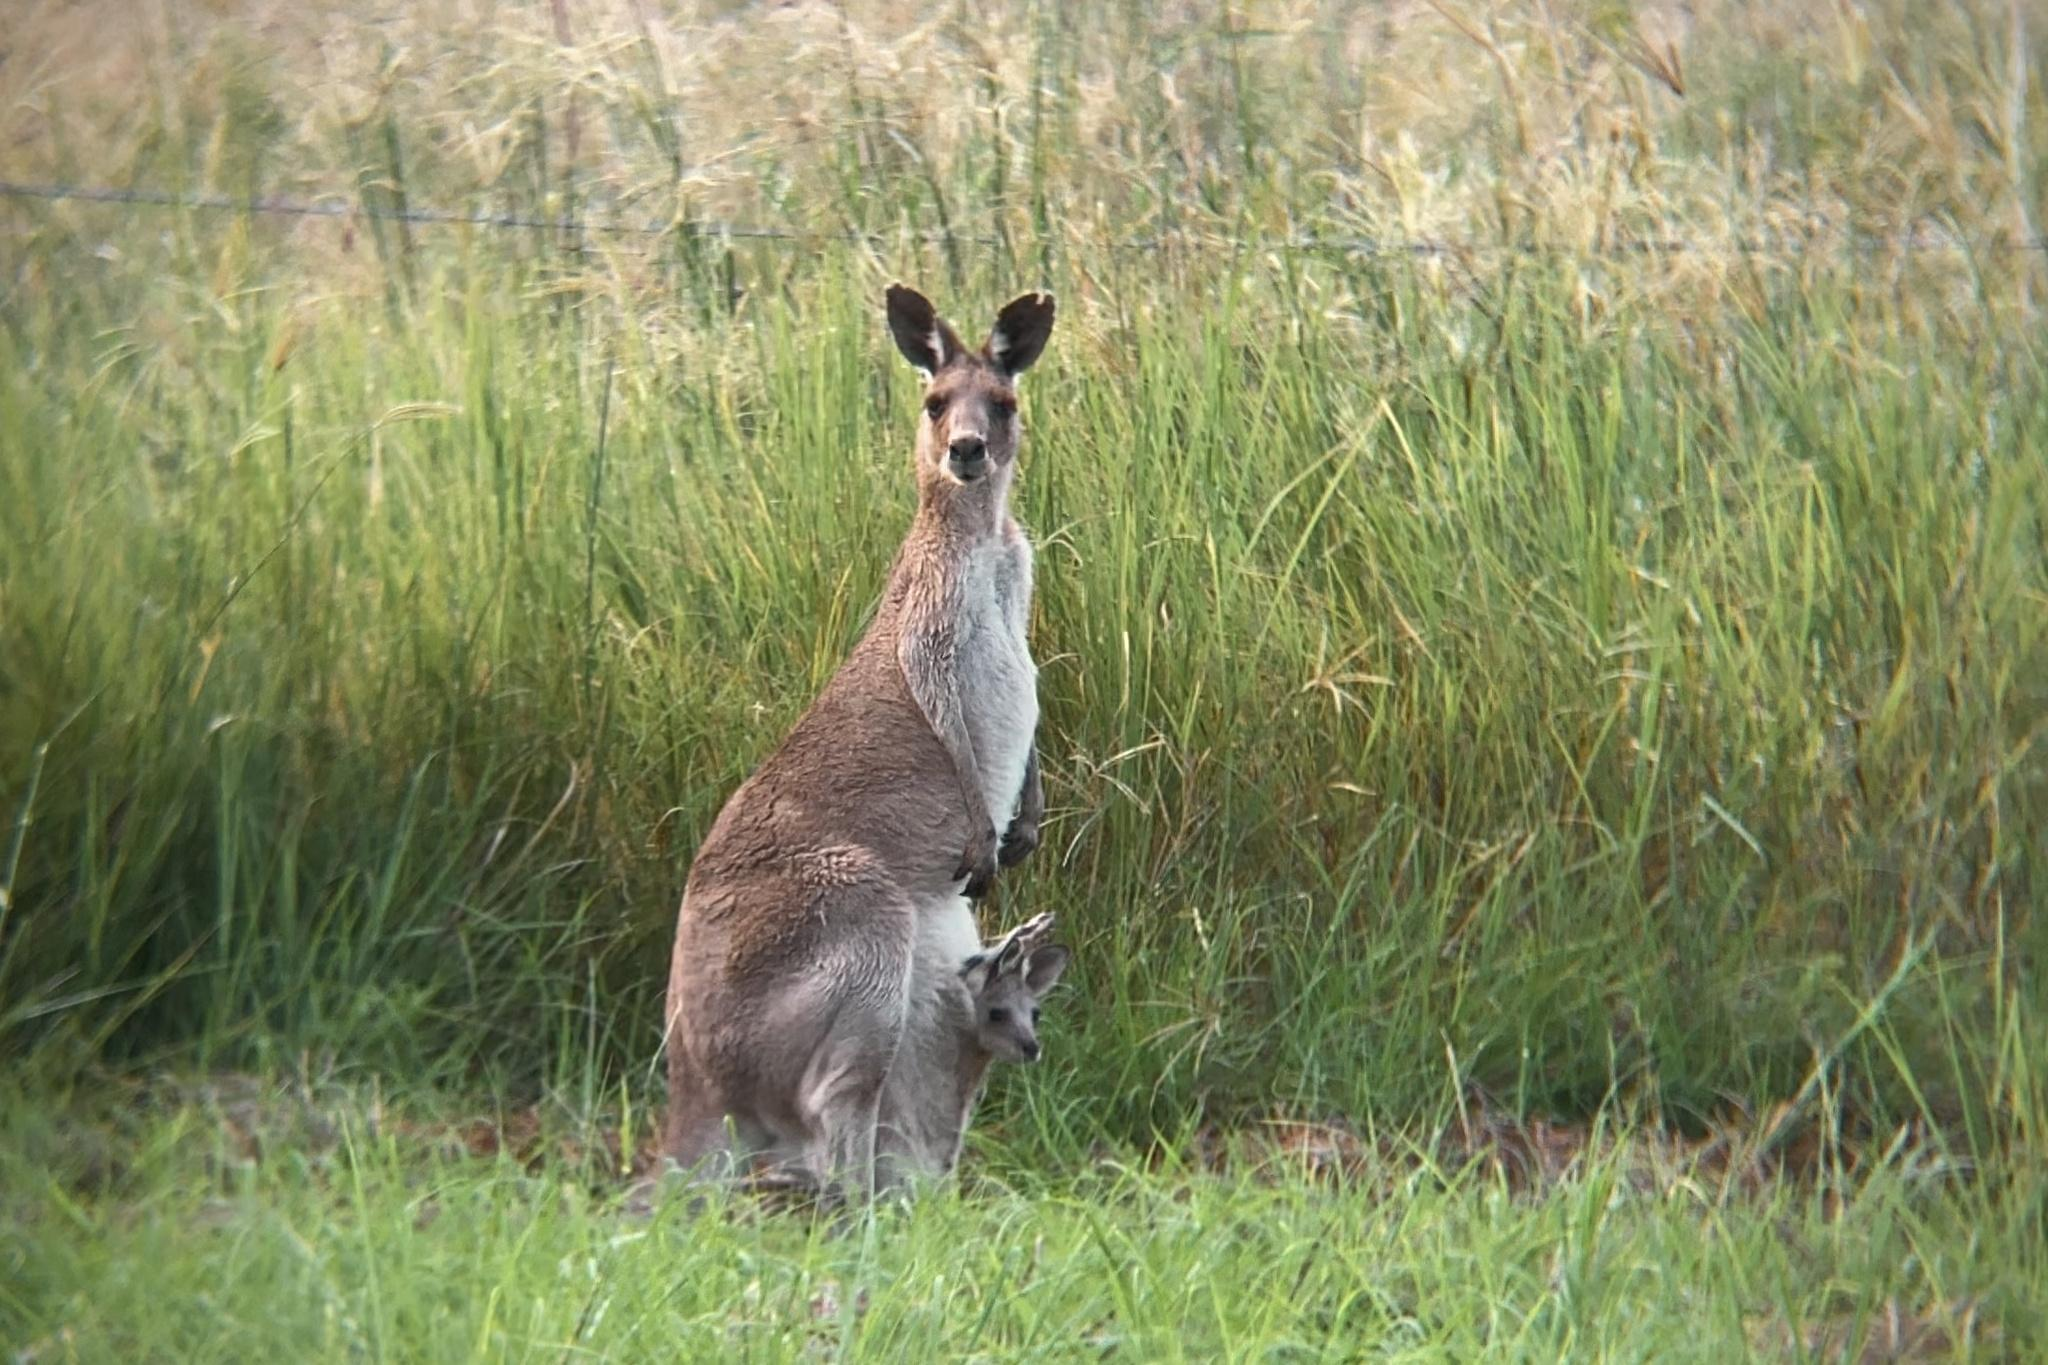Eastern grey kangaroo: (608, 283, 1083, 1236), (956, 908, 1067, 1079)
